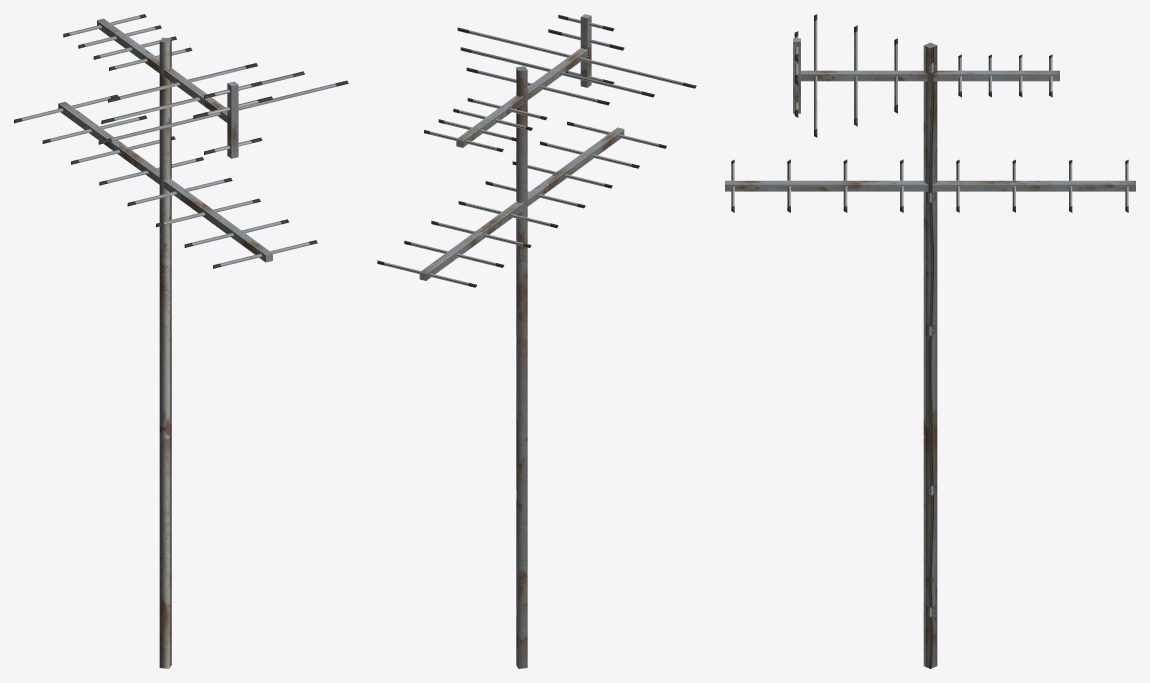
Rendered from antenna04.FBX.
The picture shows the model from 3 angles, left to right: view 1: azimuth 30°, elevation 25°; view 2: azimuth 150°, elevation 25°; view 3: azimuth 270°, elevation 25°; orthographic projection. The views are drawn at different scales.
Parts seen in each view (by area): view 1: antenna04, antenna04_part1, antenna04_part2; view 2: antenna04, antenna04_part1, antenna04_part2; view 3: antenna04, antenna04_part2, antenna04_part1.
Boxes of the visible parts, x1,y1,x2,y2 form: antenna04: (159,37,171,668); antenna04_part1: (63,14,348,158); antenna04_part2: (14,94,317,268); antenna04: (516,66,527,668); antenna04_part1: (424,14,696,151); antenna04_part2: (377,121,666,287); antenna04: (923,42,937,668); antenna04_part2: (725,159,1135,212); antenna04_part1: (793,14,1059,137).
Size of the model in its own units: 208 by 504 by 300.
